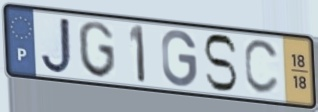1: (128, 23, 148, 86)
C: (242, 38, 282, 97)
G: (76, 19, 118, 80), (160, 29, 199, 90)
J: (39, 15, 74, 76)
S: (201, 32, 239, 94)
